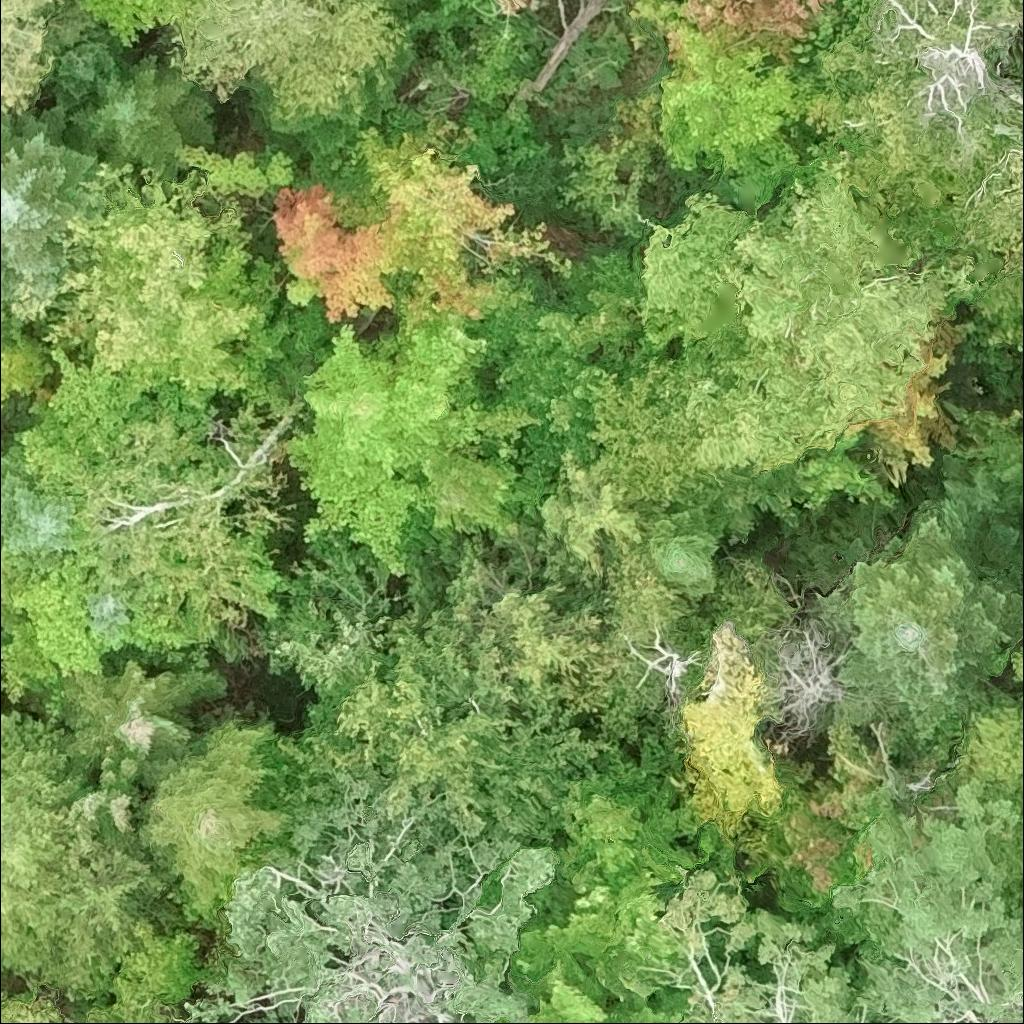crown: (638, 156, 982, 469), (174, 768, 555, 1023), (268, 599, 619, 845), (280, 276, 545, 584), (271, 99, 552, 322), (814, 479, 1023, 748), (833, 770, 1023, 1023), (804, 0, 1023, 217), (742, 711, 916, 982), (623, 0, 841, 216), (0, 713, 163, 994), (512, 765, 703, 1002), (45, 157, 234, 365), (657, 861, 875, 1023), (137, 716, 295, 939), (164, 0, 411, 126), (123, 228, 296, 394), (0, 91, 108, 337), (678, 624, 786, 844), (53, 657, 229, 786), (67, 39, 220, 179), (17, 347, 159, 470), (238, 70, 396, 168), (954, 684, 1023, 906), (485, 959, 689, 1023), (946, 118, 1023, 287), (762, 608, 836, 754), (0, 0, 93, 113), (14, 562, 103, 673), (645, 501, 732, 602), (43, 20, 135, 113), (0, 464, 77, 560), (74, 0, 196, 48), (793, 0, 870, 71), (0, 327, 56, 411), (85, 591, 128, 639), (0, 1001, 68, 1023), (493, 0, 555, 16), (133, 1006, 166, 1023), (388, 0, 418, 18), (1015, 643, 1023, 687)
